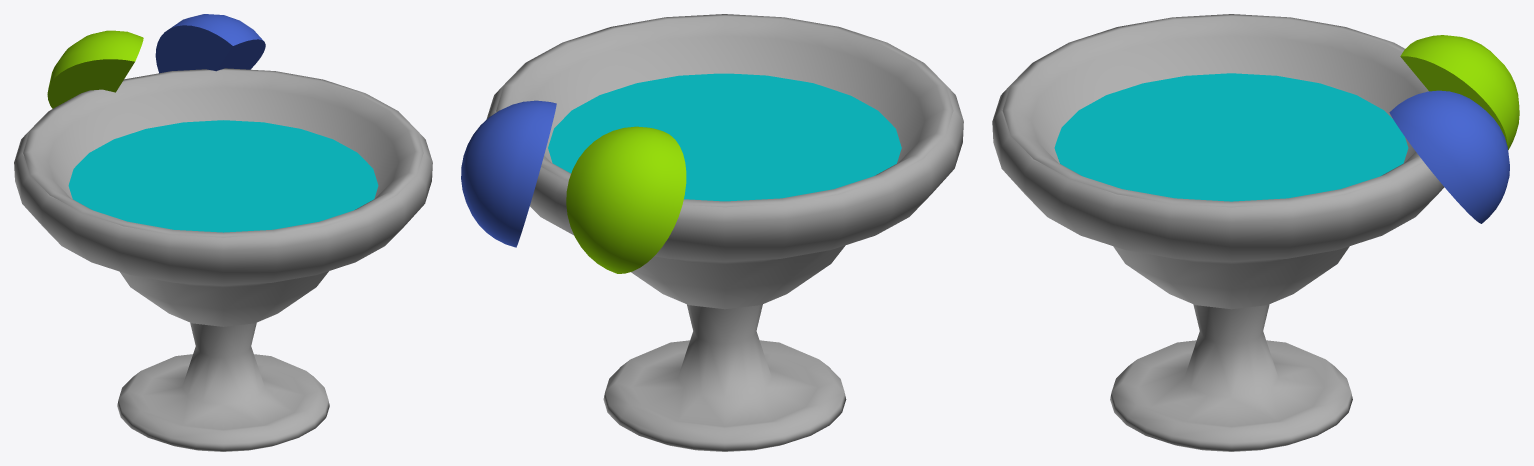
Rendered from aqua cocktail .fbx.
The picture shows the model from 3 angles, left to right: view 1: azimuth 30°, elevation 25°; view 2: azimuth 150°, elevation 25°; view 3: azimuth 270°, elevation 25°; orthographic projection. The views are drawn at different scales.
Parts seen in each view (by area): view 1: nurbsToPoly1, pCylinder1, pasted__pSphere1, pSphere1; view 2: nurbsToPoly1, pCylinder1, pSphere1, pasted__pSphere1; view 3: nurbsToPoly1, pCylinder1, pasted__pSphere1, pSphere1.
Boxes of the visible parts, left/top/right/bottom form: nurbsToPoly1: left=14, top=68, right=432, bottom=451; pCylinder1: left=68, top=120, right=378, bottom=232; pasted__pSphere1: left=155, top=14, right=265, bottom=73; pSphere1: left=47, top=30, right=143, bottom=108; nurbsToPoly1: left=486, top=14, right=963, bottom=451; pCylinder1: left=548, top=73, right=901, bottom=201; pSphere1: left=566, top=126, right=686, bottom=273; pasted__pSphere1: left=461, top=100, right=556, bottom=247; nurbsToPoly1: left=992, top=14, right=1444, bottom=451; pCylinder1: left=1054, top=73, right=1408, bottom=201; pasted__pSphere1: left=1389, top=90, right=1509, bottom=223; pSphere1: left=1400, top=35, right=1519, bottom=149.
Size of the model in its own units: 6.28 by 5.15 by 6.92.
